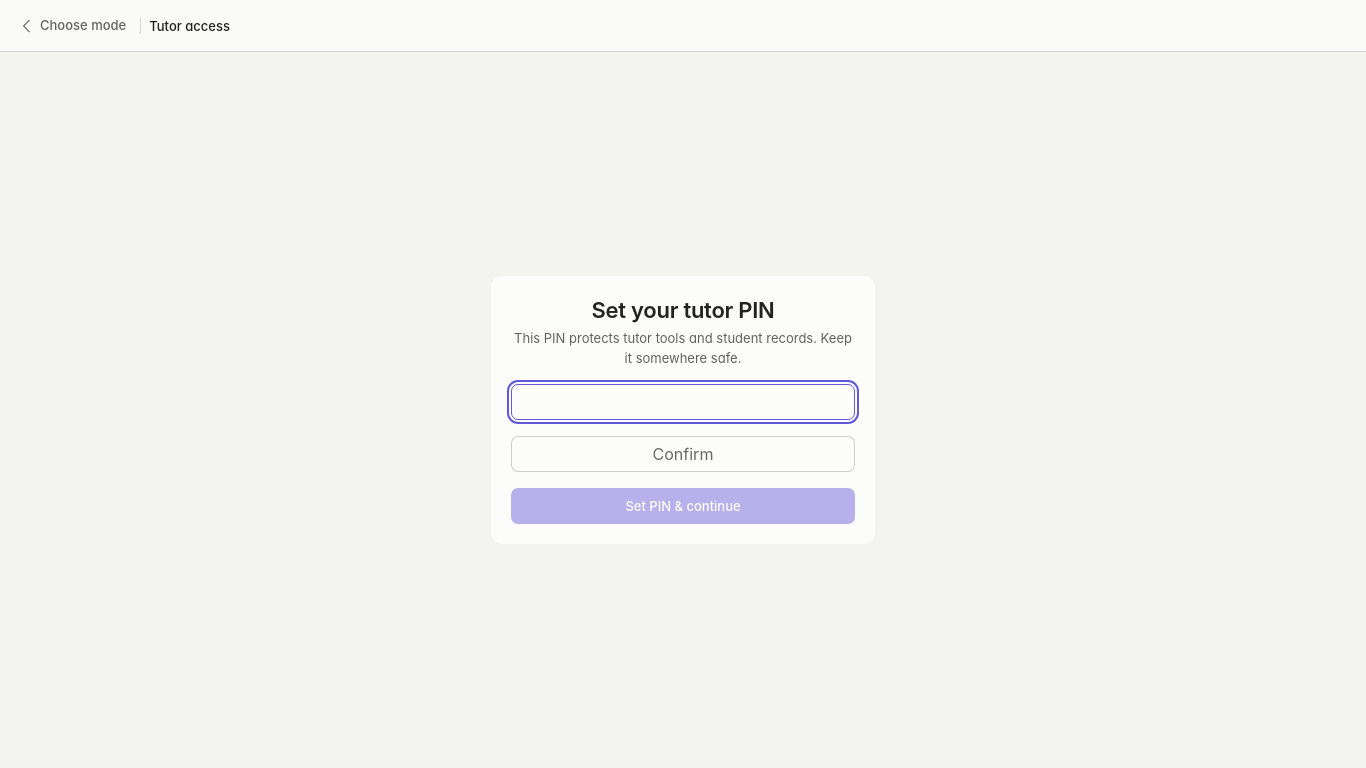
Test: UnlockScreen › on first run shows the setup form and rejects mismatched confirmations
expect the heading "Set your tutor PIN" is shown: met, box top-left (592, 297), bottom-right (774, 323)
Type "1234" into the password field named "new pin".
click(683, 402); type("1234")  # box top-left (511, 384), bottom-right (855, 420)
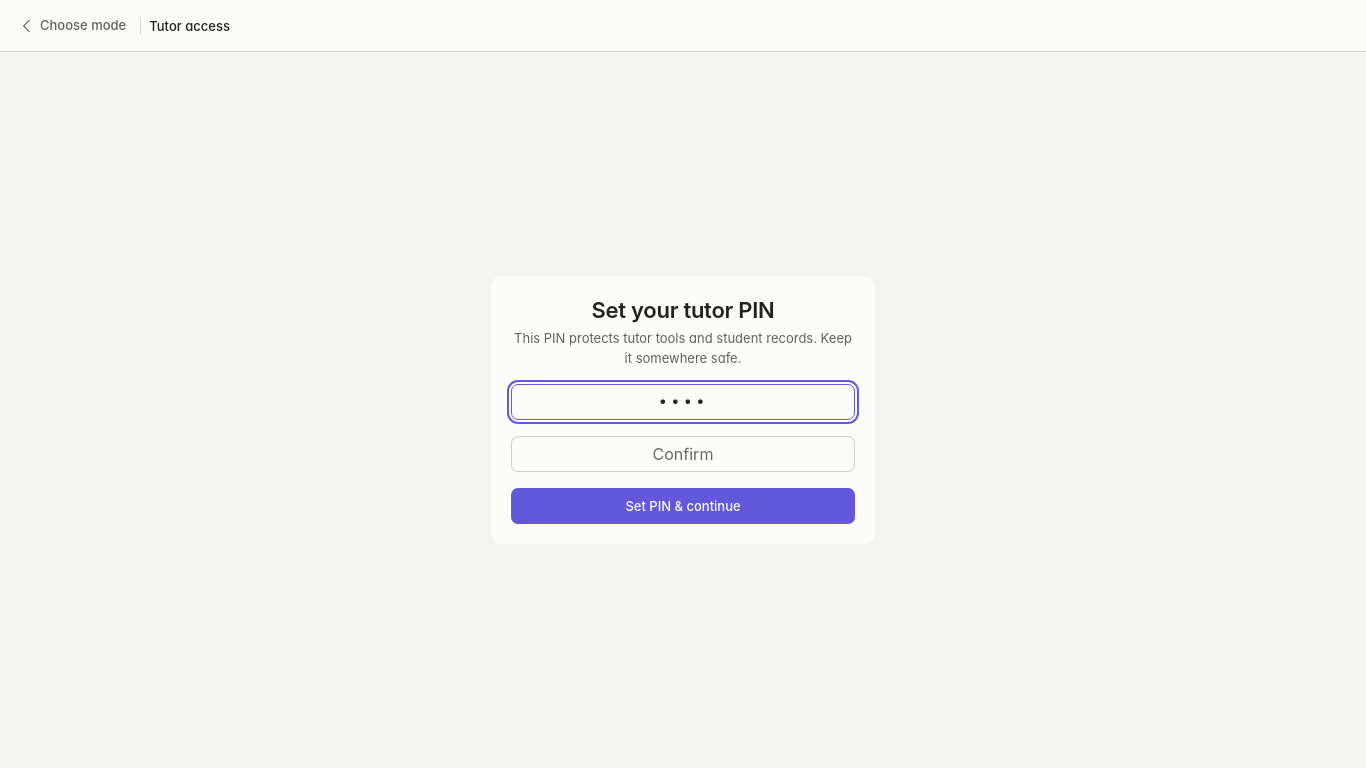
Type "9999" into the password field named "confirm pin".
click(683, 454); type("9999")  # box top-left (511, 436), bottom-right (855, 472)
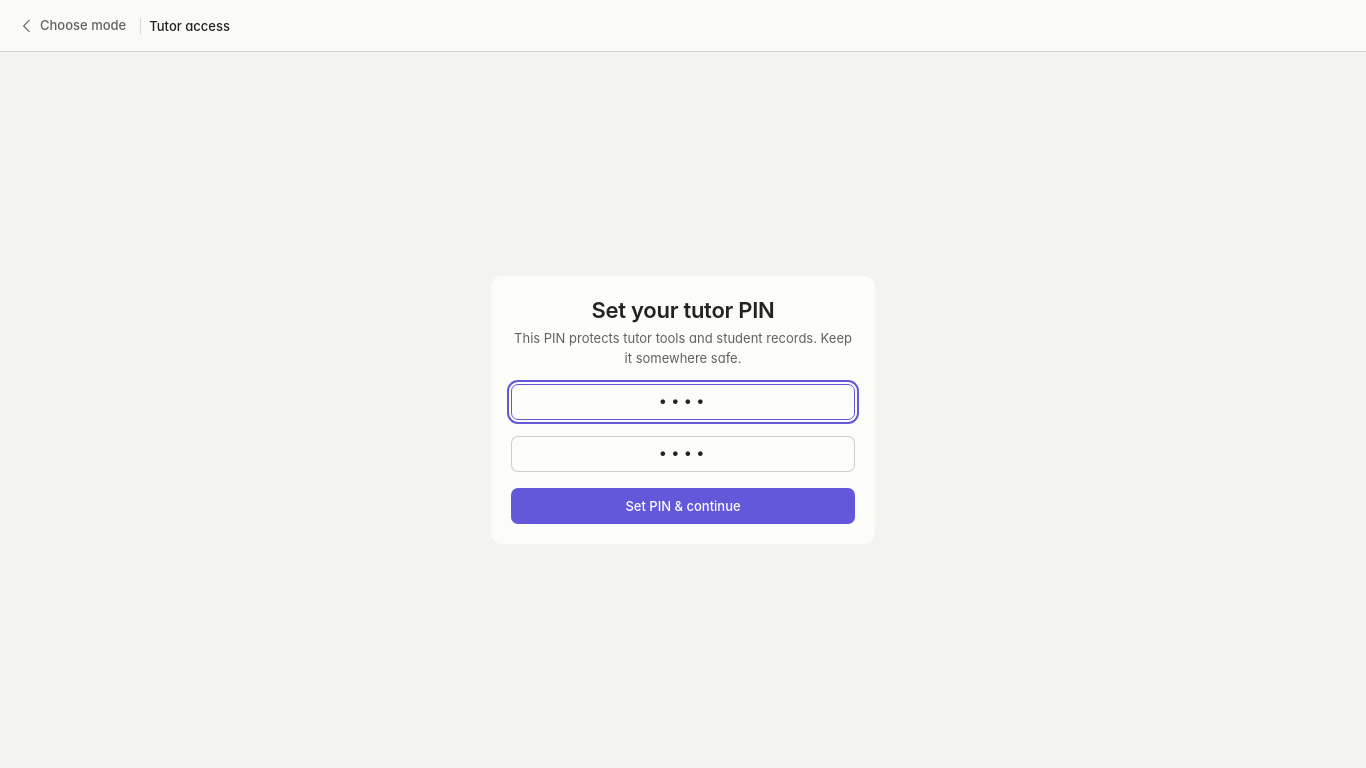
Click the button "Set PIN & continue".
click(683, 506)  # box top-left (511, 488), bottom-right (855, 524)
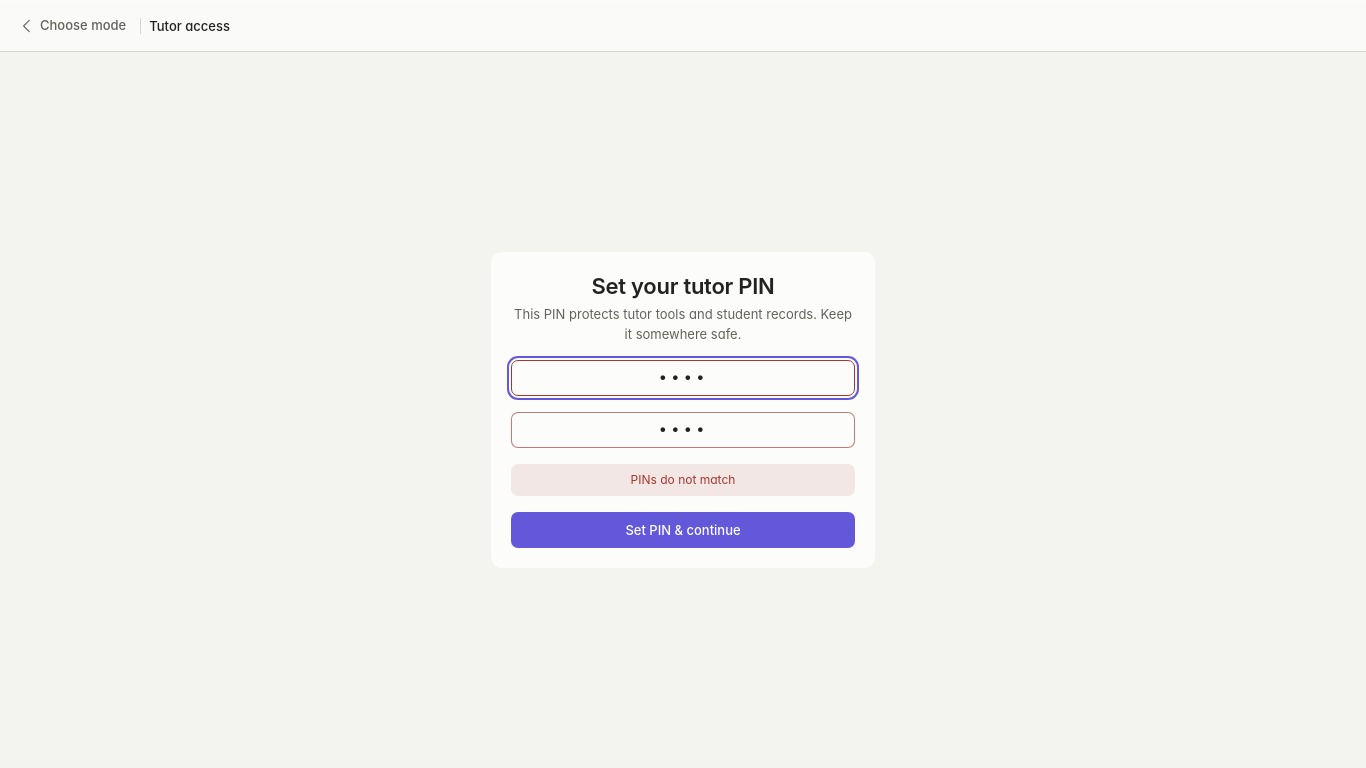
expect the message shows "do not match": met, box top-left (631, 472), bottom-right (735, 487)
